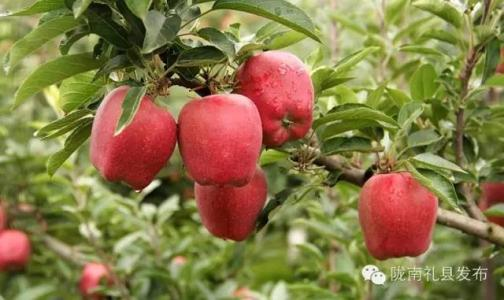apple: (90, 86, 177, 192), (179, 93, 263, 186), (357, 171, 441, 259)
obscured(1)_apple: (236, 51, 314, 148), (193, 153, 269, 240)
